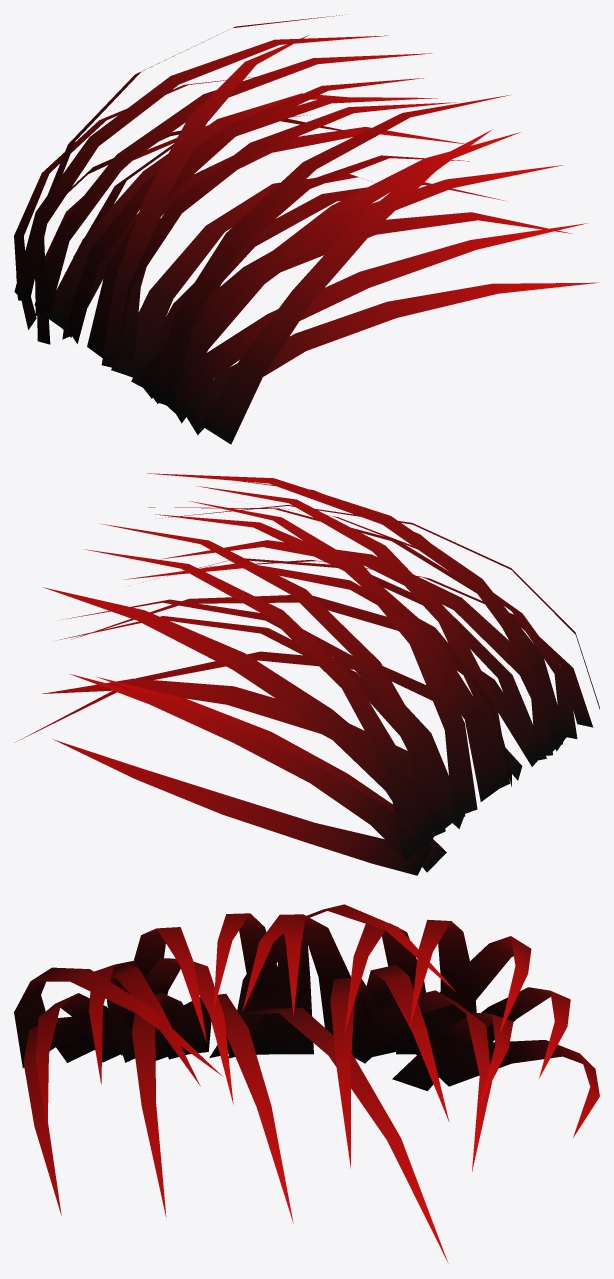
Rendered from SM_FoldedLongrass.fbx.
The picture shows the model from 3 angles, top to bottom: view 1: azimuth 30°, elevation 25°; view 2: azimuth 150°, elevation 25°; view 3: azimuth 270°, elevation 25°; orthographic projection. The views are drawn at different scales.
Visible parts, largest first — view 1: TussockLeaf_Mid71; view 2: TussockLeaf_Mid71; view 3: TussockLeaf_Mid71.
Boxes of the visible parts, <box> form: TussockLeaf_Mid71: <box>14,14,598,444</box>; TussockLeaf_Mid71: <box>15,473,599,875</box>; TussockLeaf_Mid71: <box>14,904,599,1263</box>.
Bounding box in the file's own units: 23.28 × 12.62 × 24.63.
